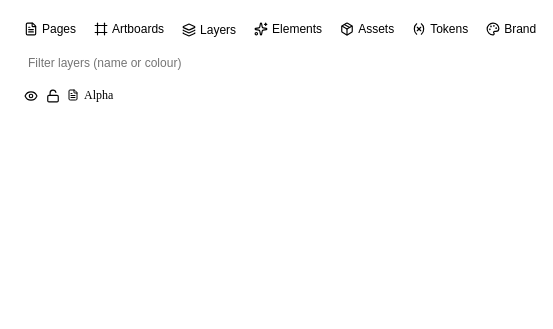
LeftPanel › right-click context menu (Phase D) › Escape dismisses the menu
Right-click the text "Alpha" at (73, 95), box [16,82,260,108]
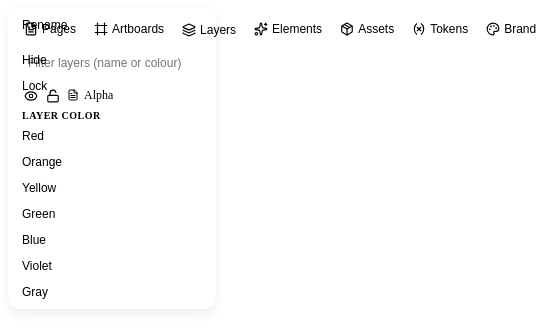
Check: the menu item with test id "ctx-rename" is shown, box [12,12,212,38]
Press Escape
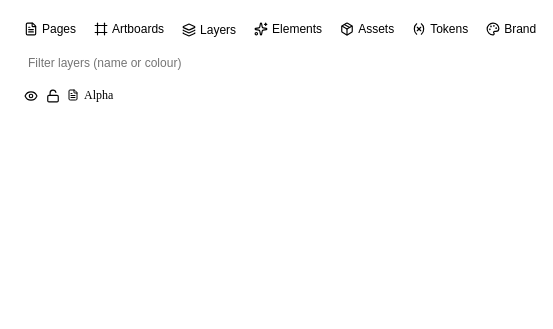
Check: the menu item with test id "ctx-rename" is gone
